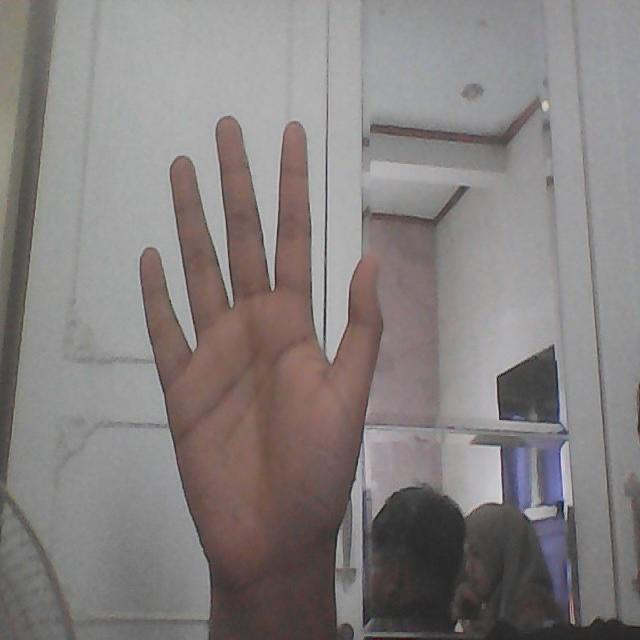hand: (114, 90, 386, 640)
